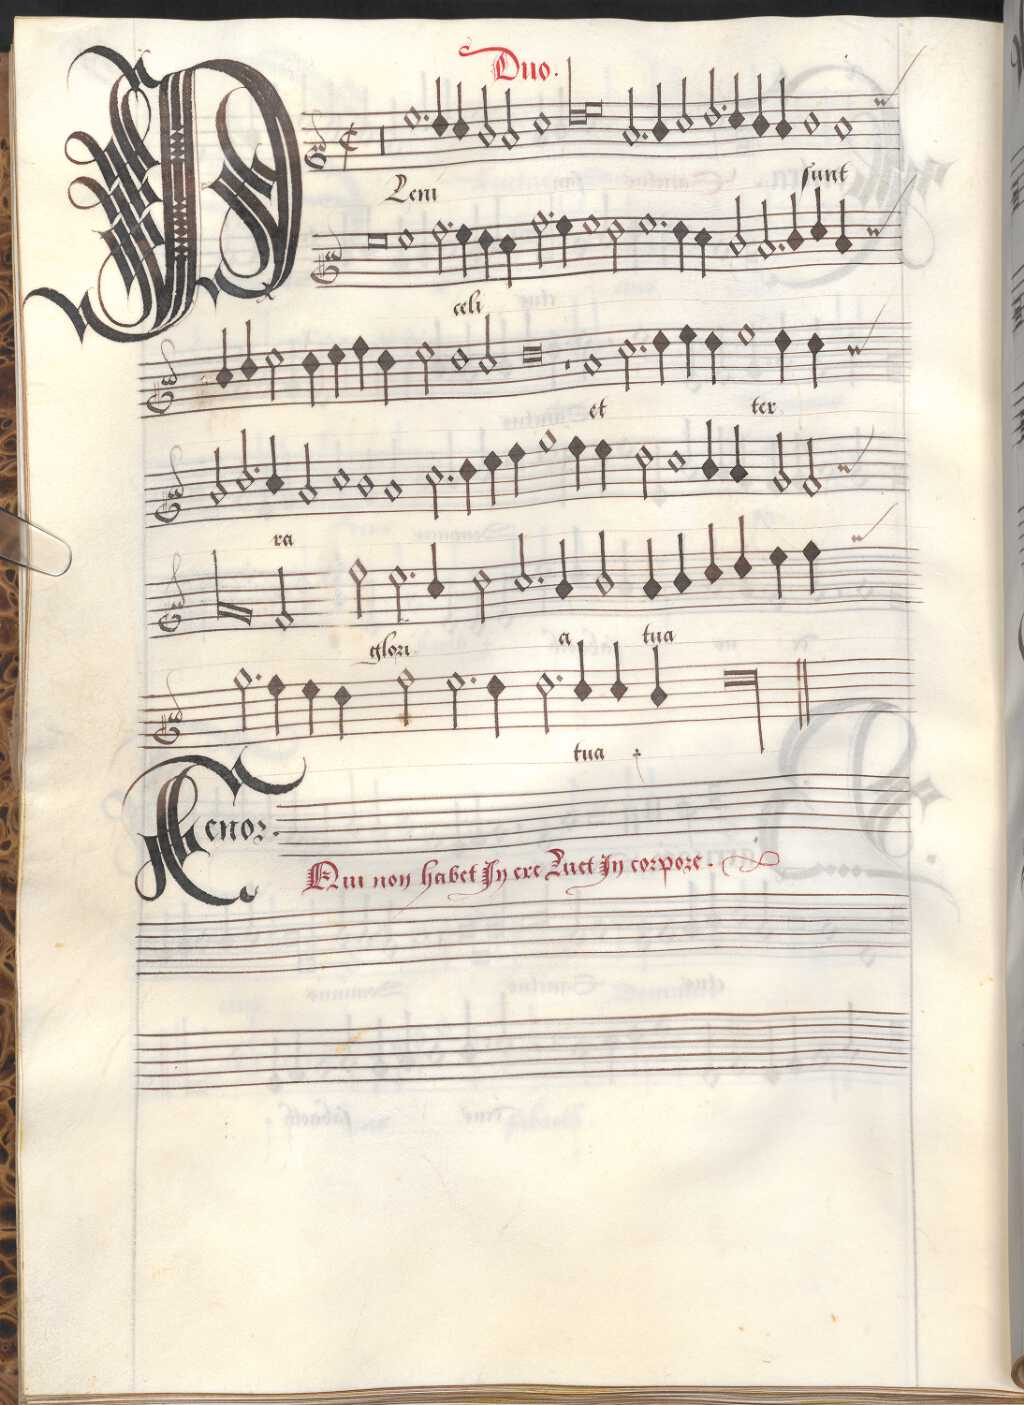Imincut: (329, 108, 375, 179)
custos_4: (860, 73, 897, 115)
g clef_9: (303, 104, 333, 183)
longa rest: (371, 106, 390, 179)
minim_5: (701, 63, 721, 136)
minim_6: (674, 69, 696, 140)
minim_7: (474, 79, 497, 156)
minim_8: (621, 79, 642, 155), (506, 81, 519, 158)
point: (417, 101, 432, 127), (635, 124, 651, 145), (714, 97, 730, 119)
semibreve_4: (399, 94, 424, 140), (581, 93, 605, 124)
semibreve_5: (564, 57, 588, 136)
semibreve_6: (530, 101, 555, 146)
semibreve_7: (799, 103, 824, 145)
semibreve_8: (830, 106, 858, 151)
semiminim_5: (431, 72, 450, 148)
semiminim_6: (451, 74, 471, 151), (728, 68, 748, 141)
semiminim_7: (751, 69, 772, 147), (650, 77, 671, 151)
semiminim_8: (774, 72, 795, 149)
